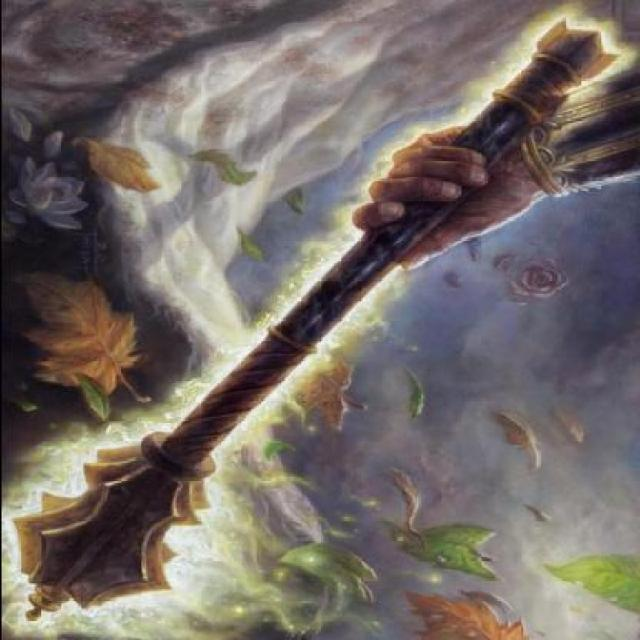weapon: (11, 14, 627, 616)
